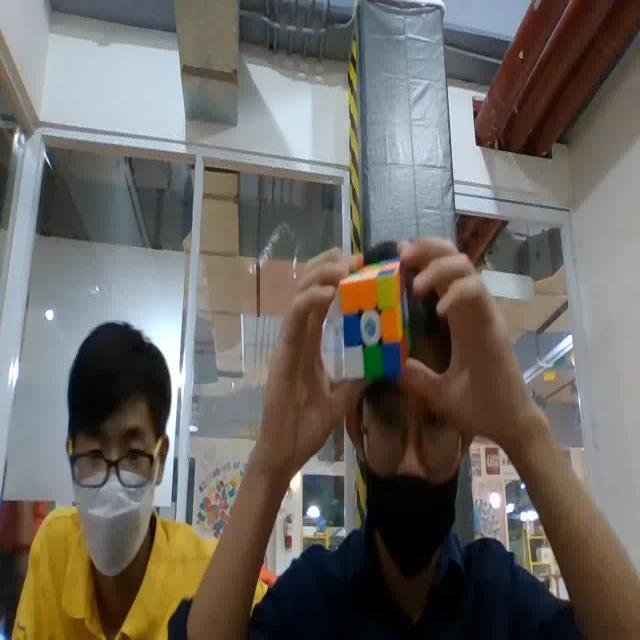Rub: (334, 263, 409, 382)
